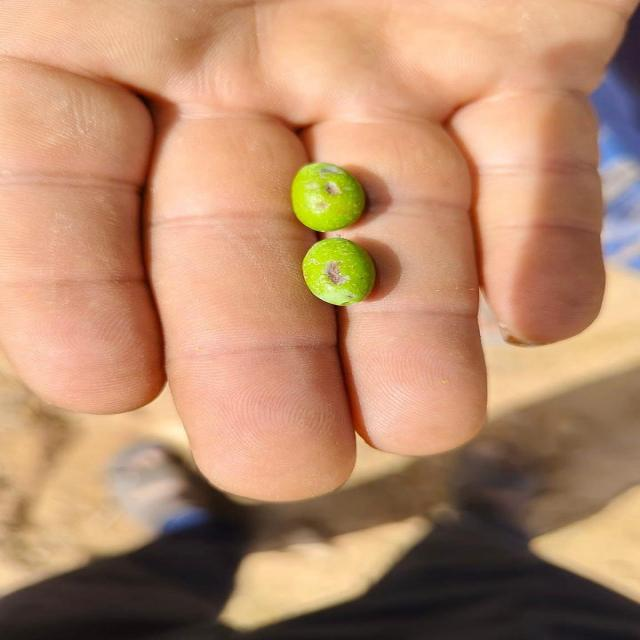Olive Fruit Fly: (292, 163, 366, 232), (302, 238, 375, 306)
